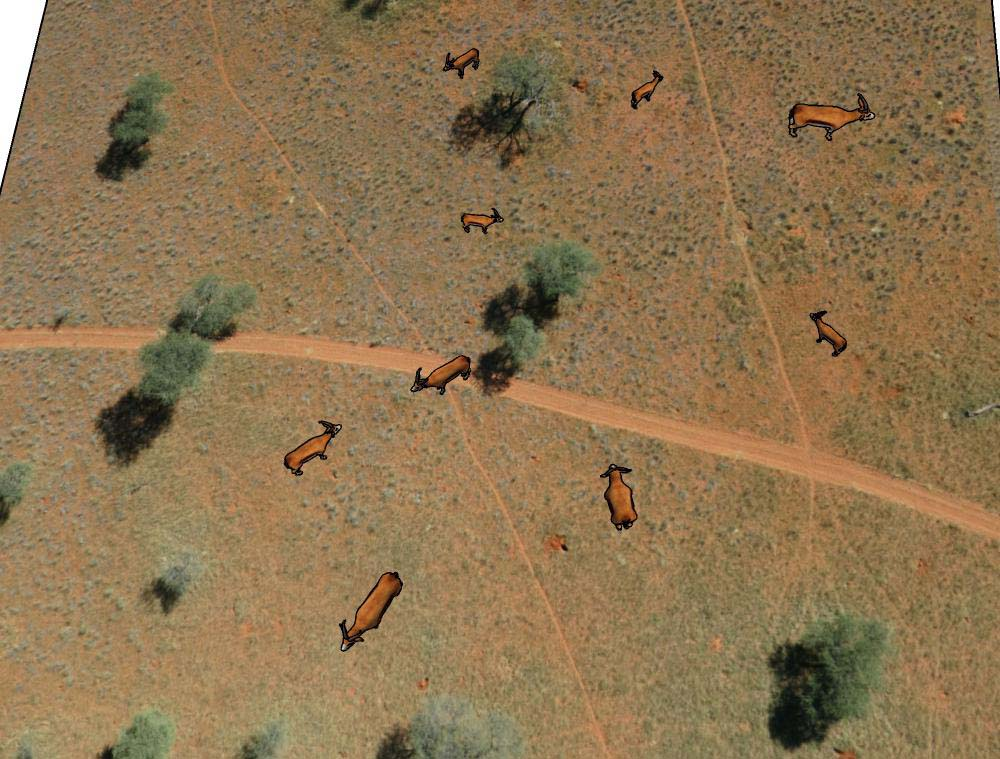springbok: (339, 563, 405, 656), (786, 86, 878, 147), (279, 418, 346, 477), (598, 460, 647, 539), (408, 355, 472, 399), (807, 299, 849, 358), (622, 65, 672, 109), (455, 206, 508, 237), (442, 43, 483, 76)
